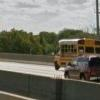Bus: (52, 35, 93, 66)
